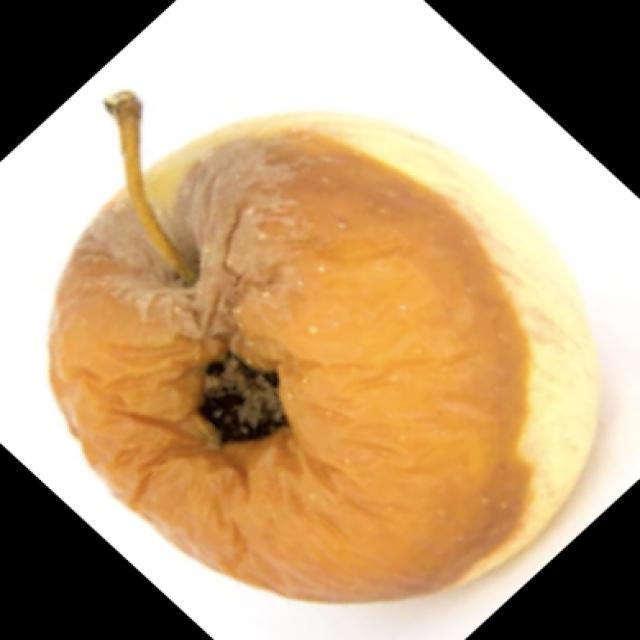Rotten: (50, 123, 580, 582)
